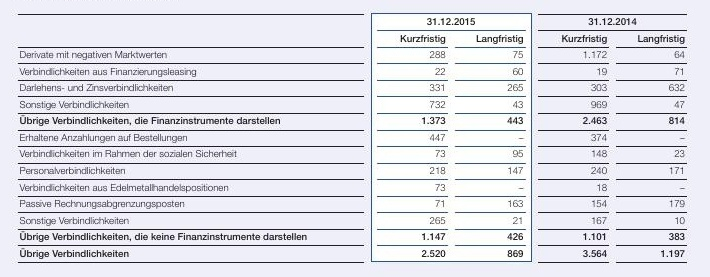table: (0, 0, 710, 277)
